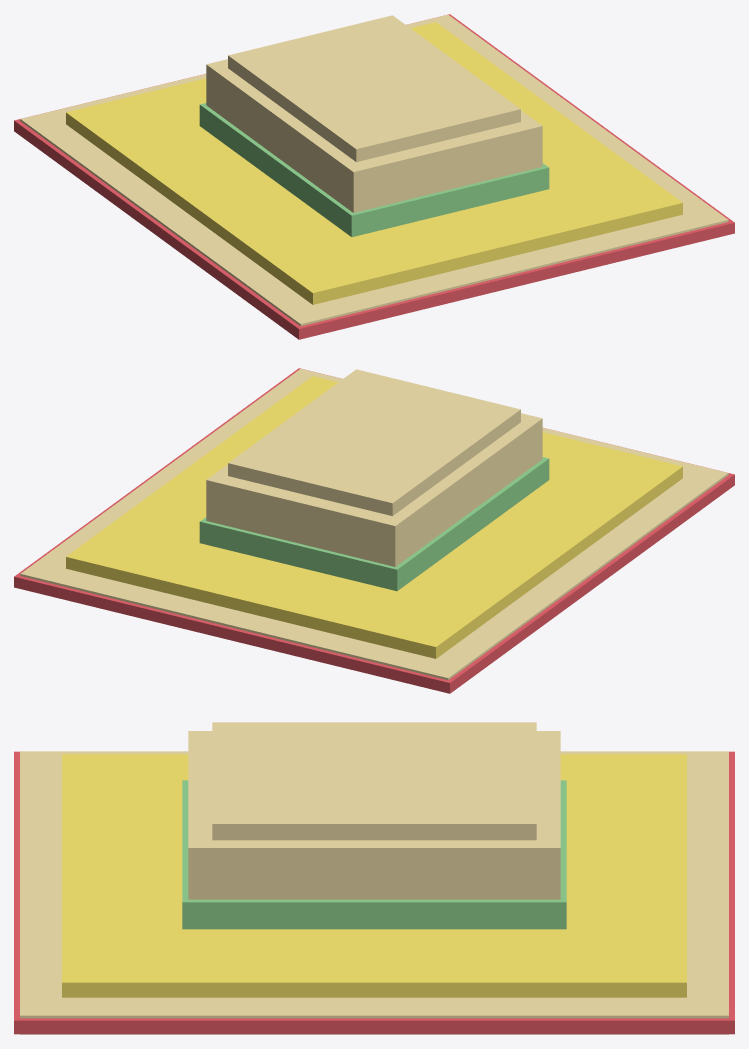
File: sombrero_colorido.glb
The picture shows the model from 3 angles, top to bottom: view 1: azimuth 30°, elevation 25°; view 2: azimuth 150°, elevation 25°; view 3: azimuth 270°, elevation 25°; orthographic projection. The views are drawn at different scales.
Visible parts, largest first — view 1: sombrero_colorido; view 2: sombrero_colorido; view 3: sombrero_colorido.
Boxes of the visible parts, x1,y1,x2,y2 form: sombrero_colorido: [14, 14, 734, 339]; sombrero_colorido: [14, 368, 734, 693]; sombrero_colorido: [14, 722, 734, 1034].
Size of the model in its own units: 1.06 by 0.2375 by 1.2.
